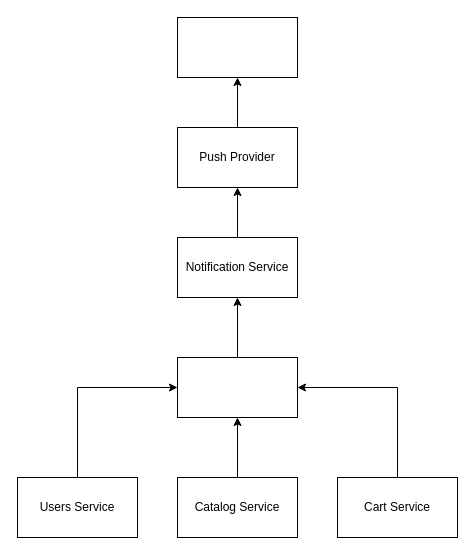
The diagram is 475 pixels wide and 555 high, and some of its shapes have lost their labels. Here are the shapes that lost their labels. From the top down, the centre of each, then its label:
pixel 237 47: Mobile App
pixel 237 387: Event Bus / Message Broker
